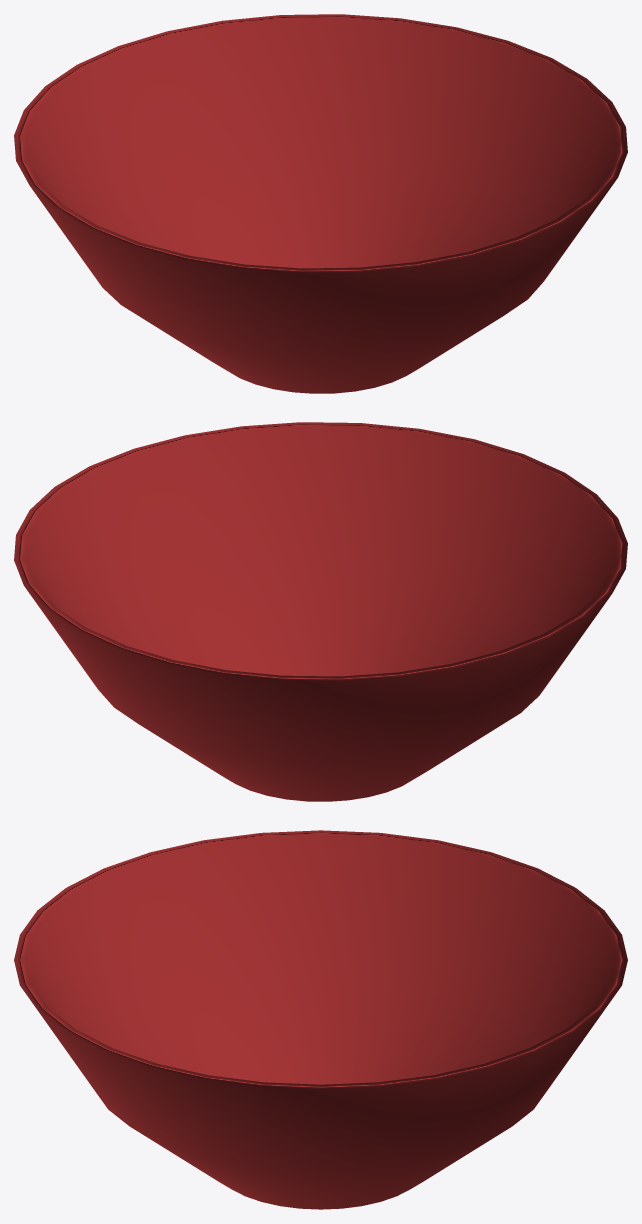
File: FET-BWL-std.glb
The picture shows the model from 3 angles, top to bottom: view 1: azimuth 30°, elevation 25°; view 2: azimuth 150°, elevation 25°; view 3: azimuth 270°, elevation 25°; orthographic projection.
Visible parts, largest first — view 1: FET-BWL-std; view 2: FET-BWL-std; view 3: FET-BWL-std.
Boxes of the visible parts, x1=… form: FET-BWL-std: x1=14, y1=14, x2=627, y2=393; FET-BWL-std: x1=14, y1=422, x2=627, y2=801; FET-BWL-std: x1=14, y1=830, x2=627, y2=1209.
Bounding box in the file's own units: 0.3 × 0.11 × 0.3.
